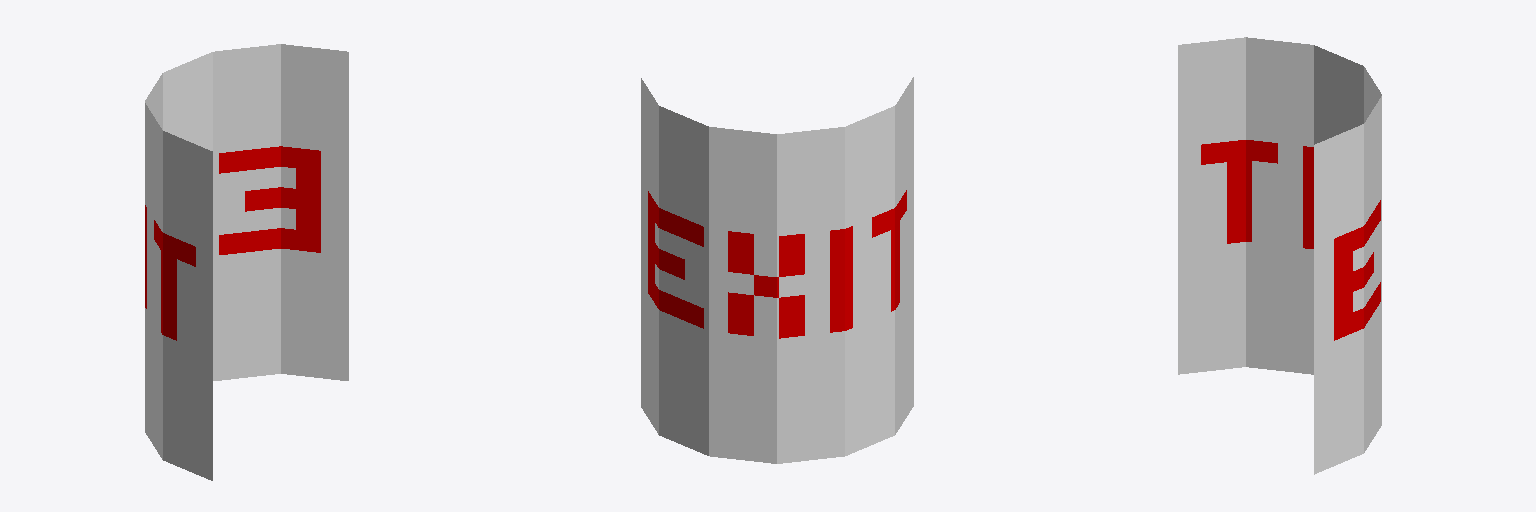
3 renders of one model, left to right at view 1: azimuth 30°, elevation 25°; view 2: azimuth 150°, elevation 25°; view 3: azimuth 270°, elevation 25°, orthographic.
Visible parts, largest first — view 1: Tube 1; view 2: Tube 1; view 3: Tube 1.
Part boxes in pixels (x1,y1,x2,y2): Tube 1: (145,44,348,480); Tube 1: (641,77,913,463); Tube 1: (1178,37,1381,474).
Bounding box in the file's own units: 11.2 × 16 × 9.
1 materials, 1 textured.